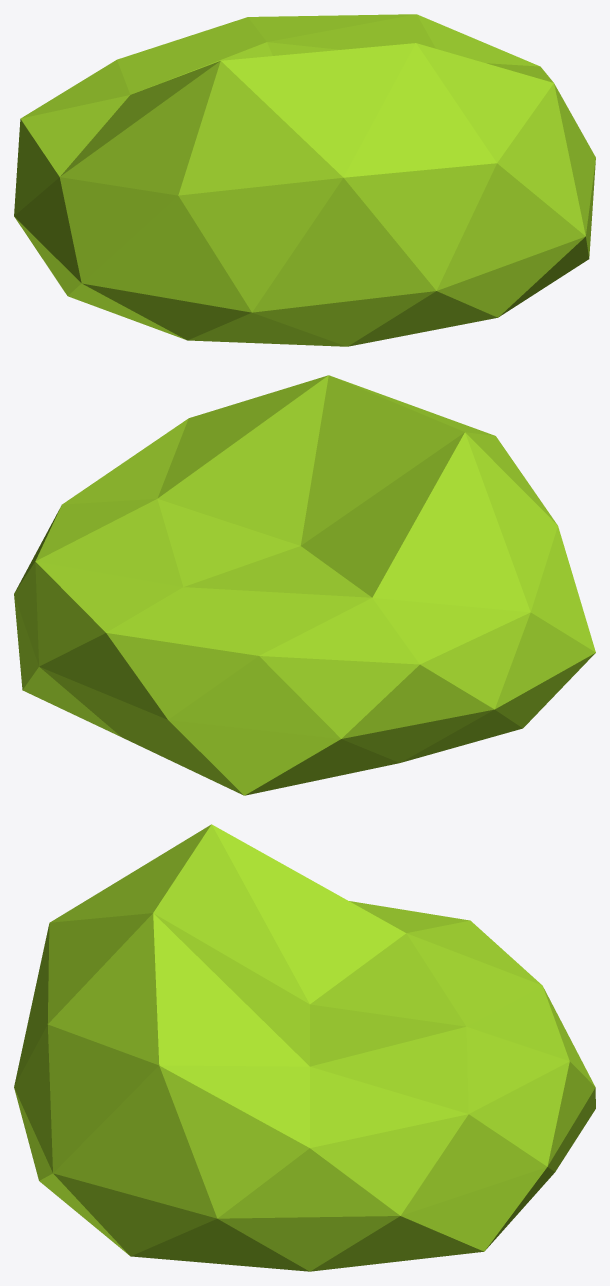
3 renders of one model, top to bottom at view 1: azimuth 30°, elevation 25°; view 2: azimuth 150°, elevation 25°; view 3: azimuth 270°, elevation 25°, orthographic. The views are drawn at different scales.
Visible parts, largest first — view 1: bag; view 2: bag; view 3: bag.
Boxes of the visible parts, left/top/right/bottom form: bag: left=14, top=14, right=595, bottom=346; bag: left=14, top=375, right=595, bottom=795; bag: left=14, top=824, right=595, bottom=1271.
Size of the model in its own units: 1.14 by 0.5304 by 1.06.
